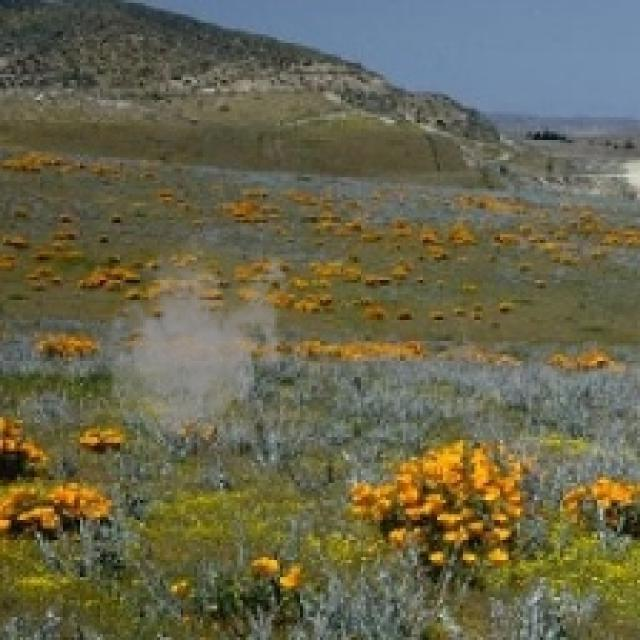Smoke: (91, 226, 292, 443)
